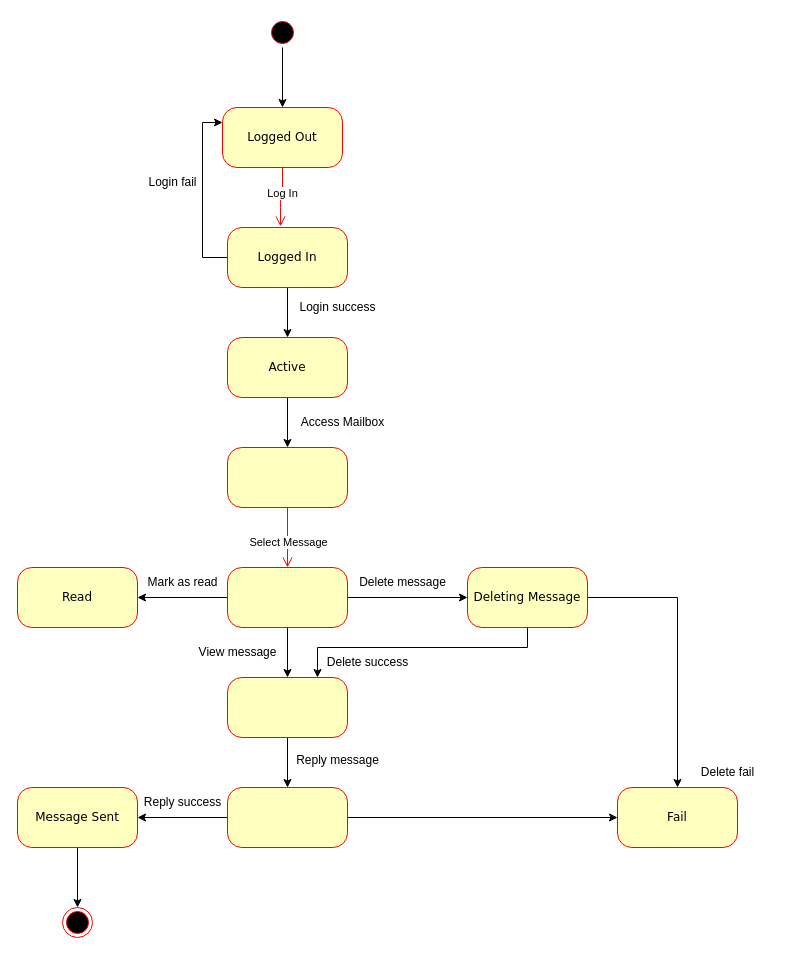
Image size: 785x955. Some labels were removed from this diagram. Each missing label, with the centre of its shape:
"Reading Message" goes at pixel 287 597.
"Replying to Message" goes at pixel 287 817.
"Successfull" goes at pixel 287 707.
"Viewing Mailbox" goes at pixel 287 477.
